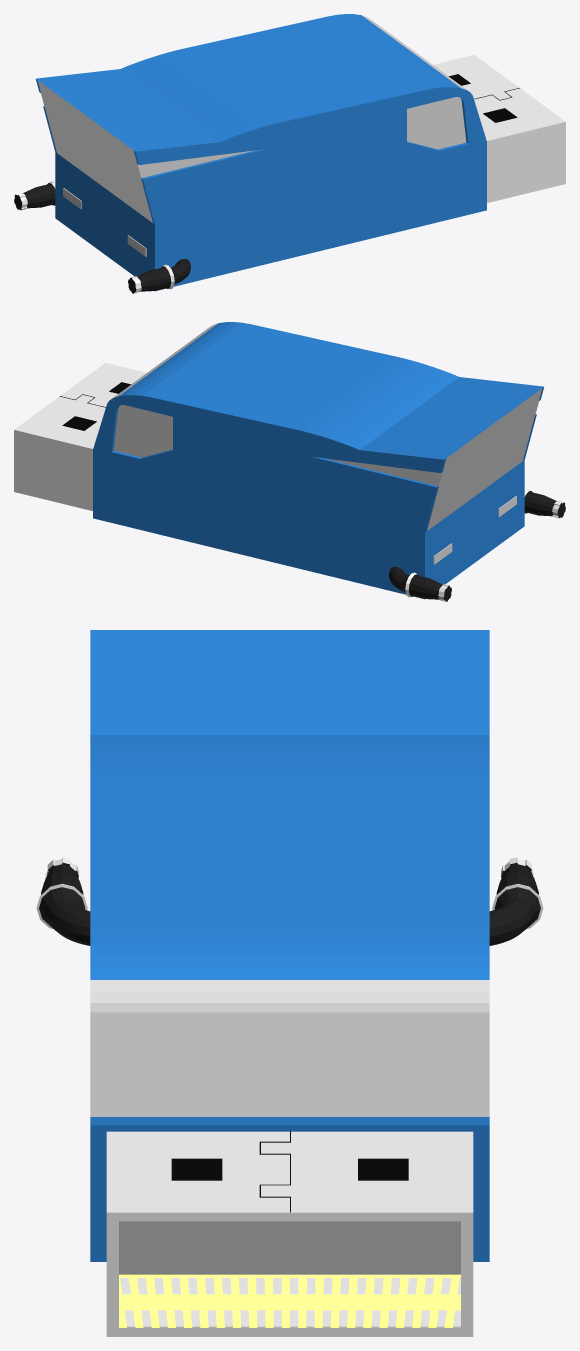
Rendered from usbcar.fbx.
3 views of the same model, one above another, from view 1: azimuth 30°, elevation 25°; view 2: azimuth 150°, elevation 25°; view 3: azimuth 270°, elevation 25° (orthographic). The views are drawn at different scales.
Parts seen in each view (by area): view 1: Cube; view 2: Cube; view 3: Cube.
Part boxes in pixels (bbox=[...]): Cube: bbox=[14, 14, 565, 293]; Cube: bbox=[14, 322, 565, 601]; Cube: bbox=[36, 630, 543, 1336].
Bounding box in the file's own units: 536 × 166 × 264.
